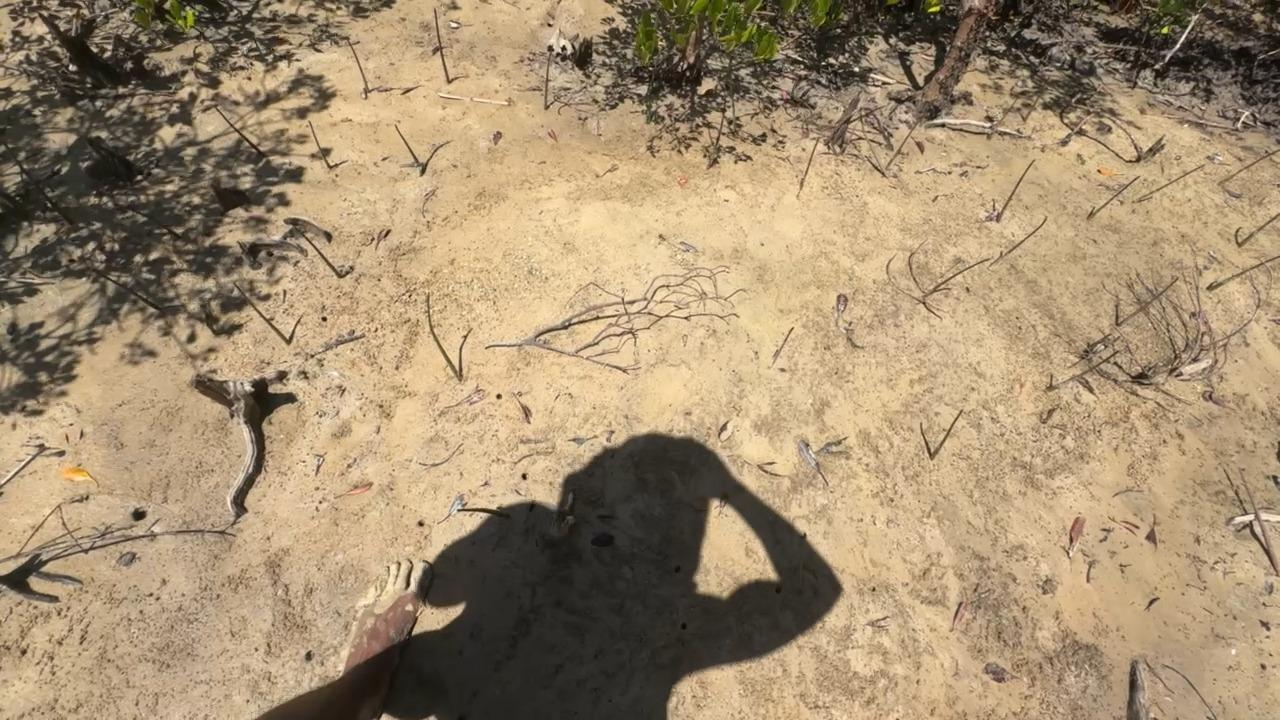Tree: (0, 134, 74, 228), (83, 260, 166, 315), (231, 278, 293, 343), (283, 216, 343, 277), (986, 214, 1051, 270), (1116, 275, 1181, 327), (1135, 160, 1206, 205), (426, 292, 461, 382), (212, 101, 265, 155), (1049, 350, 1122, 389), (1207, 253, 1280, 291), (997, 156, 1037, 224), (926, 254, 994, 291), (1220, 146, 1279, 185), (1089, 175, 1141, 218), (885, 112, 924, 167), (860, 107, 889, 177), (428, 8, 453, 83), (930, 407, 964, 460), (986, 92, 1024, 139), (706, 96, 728, 167), (1236, 214, 1278, 249), (346, 36, 370, 94), (799, 135, 822, 191), (1021, 82, 1047, 125), (308, 119, 330, 169), (394, 122, 418, 167), (543, 44, 554, 108)
